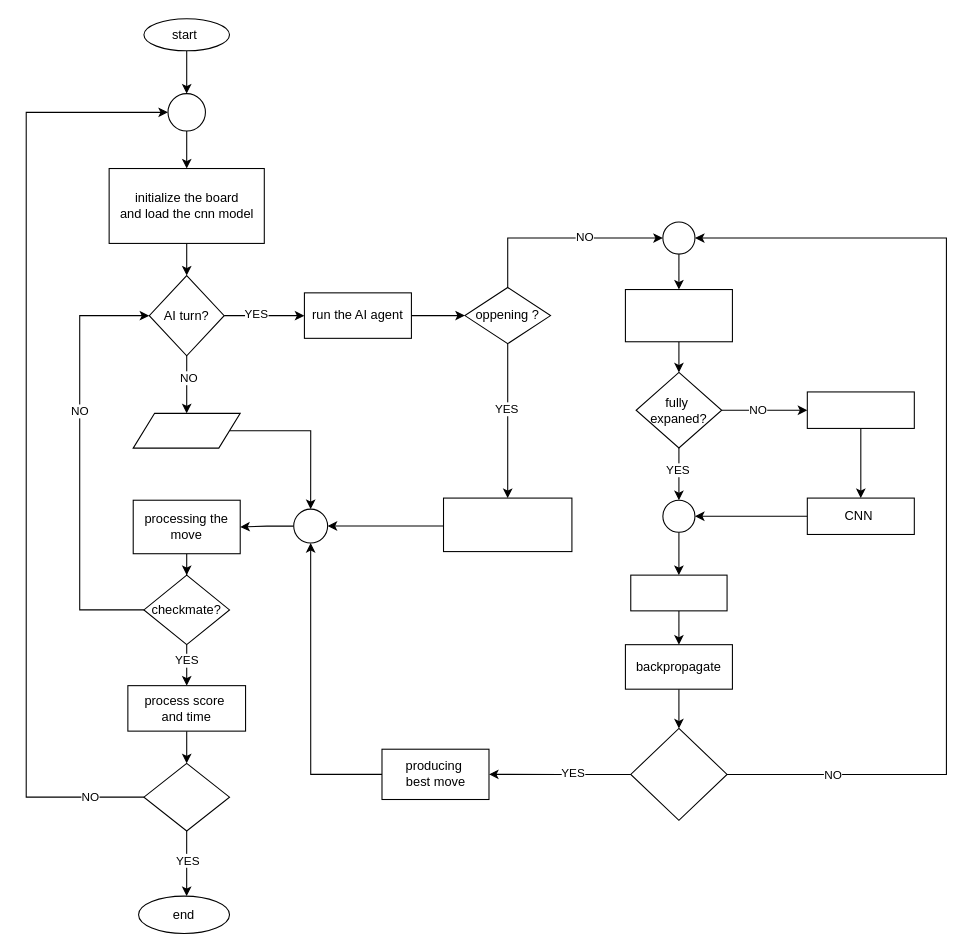
This 974x952 diagram has some shape labels left out. Here are the shapes that lost their labels. From the top down, the centre of each, then its label:
At [678,315]: "select current node".
At [860,409]: "expand".
At [186,430]: "do a move".
At [507,524]: "do appropriate move from stored oppenings".
At [678,592]: "simulate".
At [678,773]: "finished iterations?".
At [186,796]: "time's out?".
